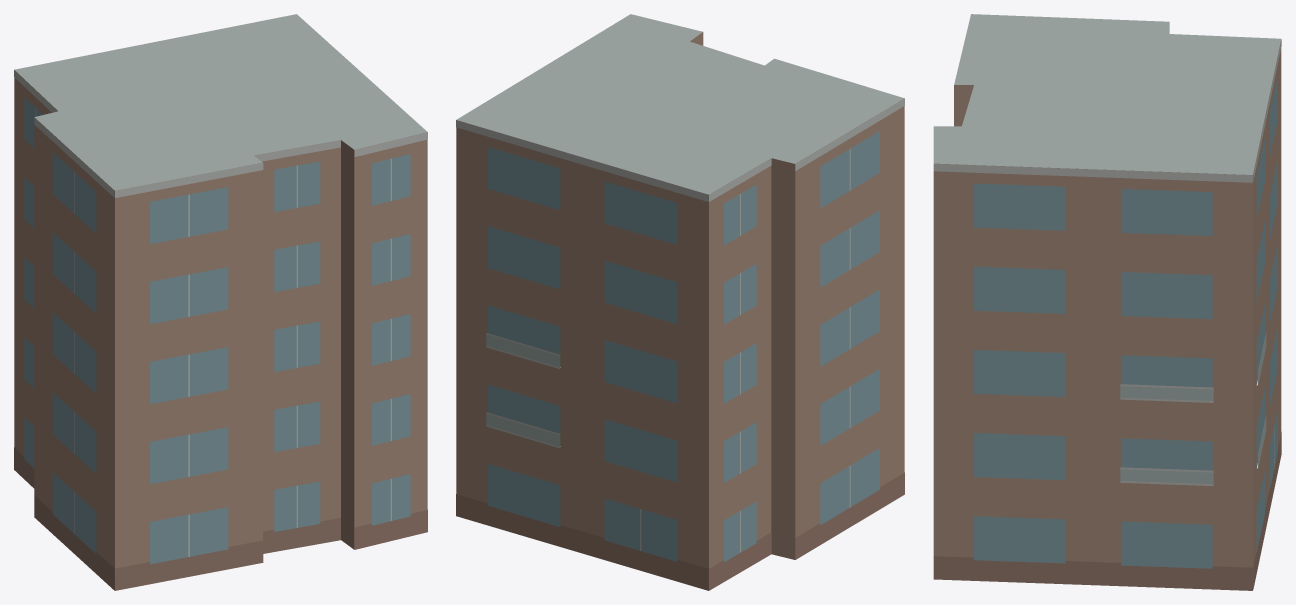
The model's file is survey-upis-32870411.glb.
3 views of the same model, side by side, from view 1: azimuth 30°, elevation 25°; view 2: azimuth 150°, elevation 25°; view 3: azimuth 270°, elevation 25° (orthographic). The views are drawn at different scales.
Parts seen in each view (by area): view 1: survey-upis-32870411.tmp; view 2: survey-upis-32870411.tmp; view 3: survey-upis-32870411.tmp.
Boxes of the visible parts, x1,y1,x2,y2 form: survey-upis-32870411.tmp: (14,14,427,590); survey-upis-32870411.tmp: (456,14,904,590); survey-upis-32870411.tmp: (933,14,1281,590).
Size of the model in its own units: 10.89 by 13.1 by 9.94.
